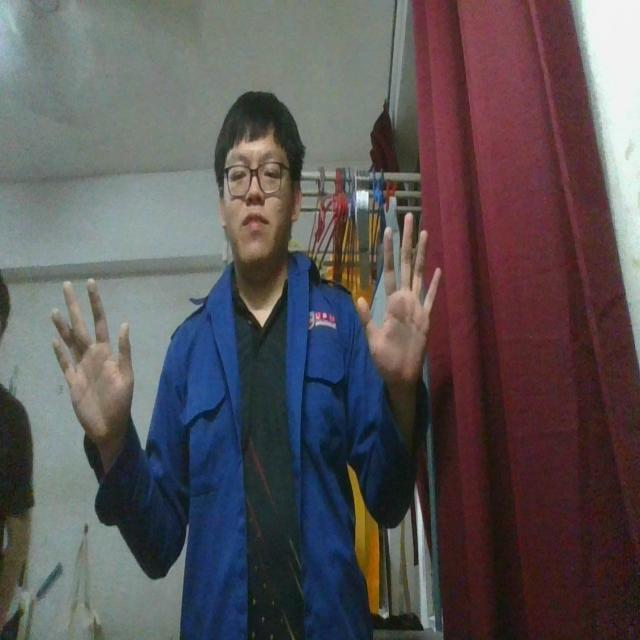person_with_labcoat: (53, 93, 439, 639)
person_without_labcoat: (0, 384, 33, 632)
